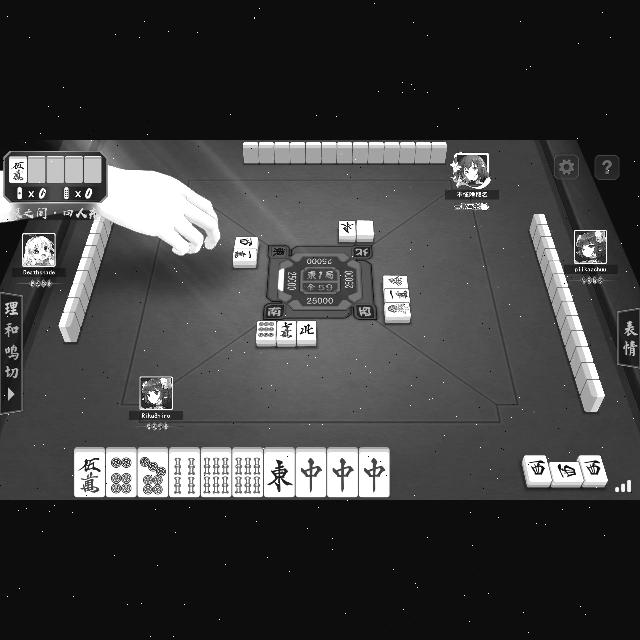1m: (232, 249, 258, 267), (384, 290, 410, 302)
1s: (385, 303, 411, 323)
4s: (170, 447, 200, 498)
5m: (74, 447, 106, 498), (9, 156, 27, 184)
6p: (107, 447, 137, 497)
6s: (200, 447, 232, 498), (232, 447, 264, 497)
7m: (278, 321, 296, 347)
7p: (138, 447, 168, 497)
9p: (256, 321, 276, 347)
chun: (358, 447, 389, 498), (296, 447, 326, 497), (328, 447, 358, 497)
haku: (356, 220, 374, 242)
hatsu: (382, 276, 408, 288)
pe: (298, 320, 316, 346)
sha: (522, 455, 552, 487), (578, 455, 608, 487), (549, 461, 583, 487), (234, 237, 258, 249)
tou: (264, 447, 296, 497), (338, 220, 356, 242)
